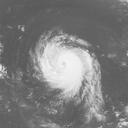cyclone: (36, 31, 102, 99)
